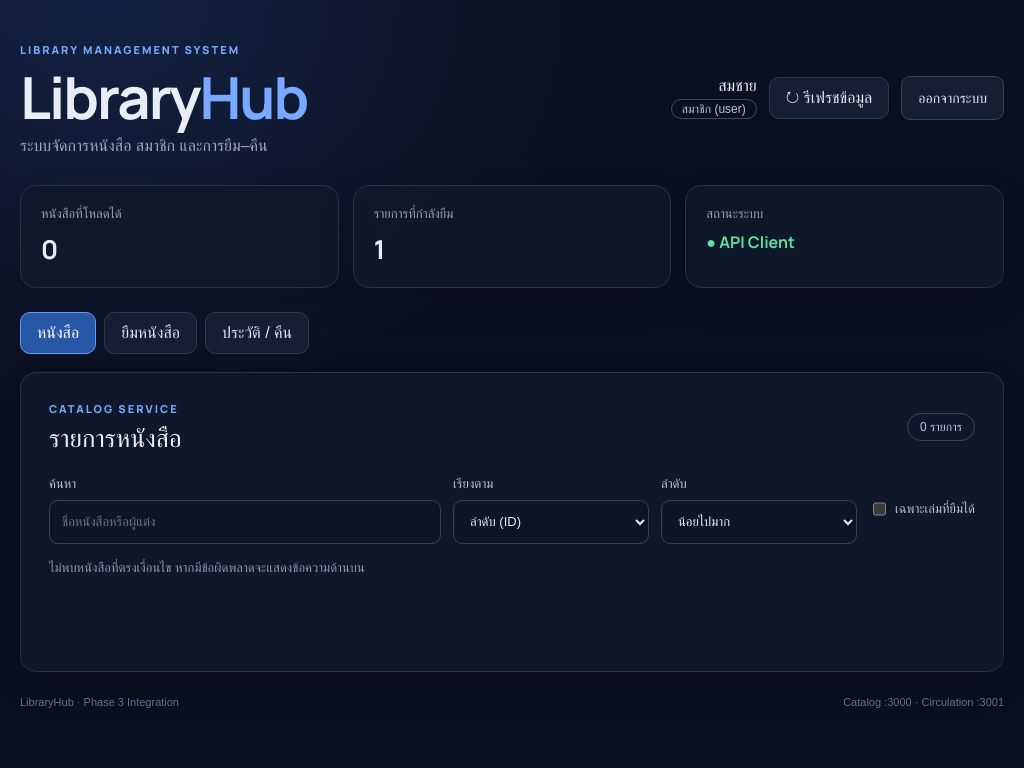
Scenario: App: กู้เซสชันตอนเปิดหน้า › ประวัติการยืมแสดงจำนวนวันที่เกินและค่าปรับ
Click the button "ประวัติ / คืน" at (257, 333), box [205,312,309,354]
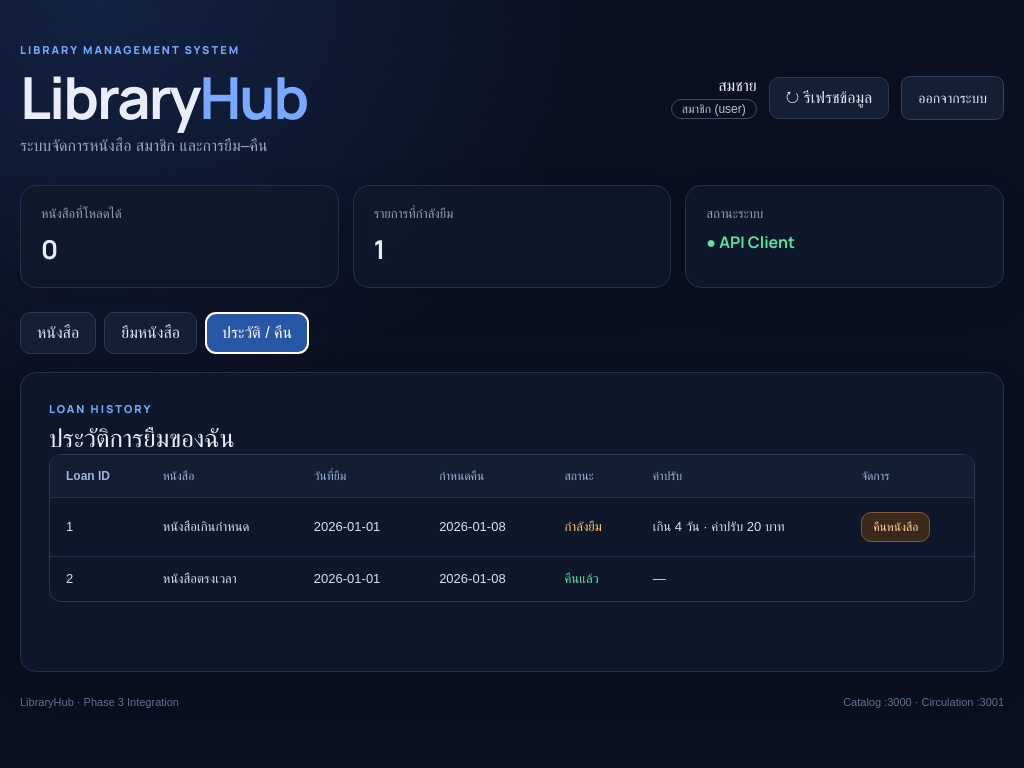
Expected: the text "เกิน 4 วัน · ค่าปรับ 20 บาท" is shown, [637,497,845,556]
Expected: the text "—" is shown, [637,556,845,601]
